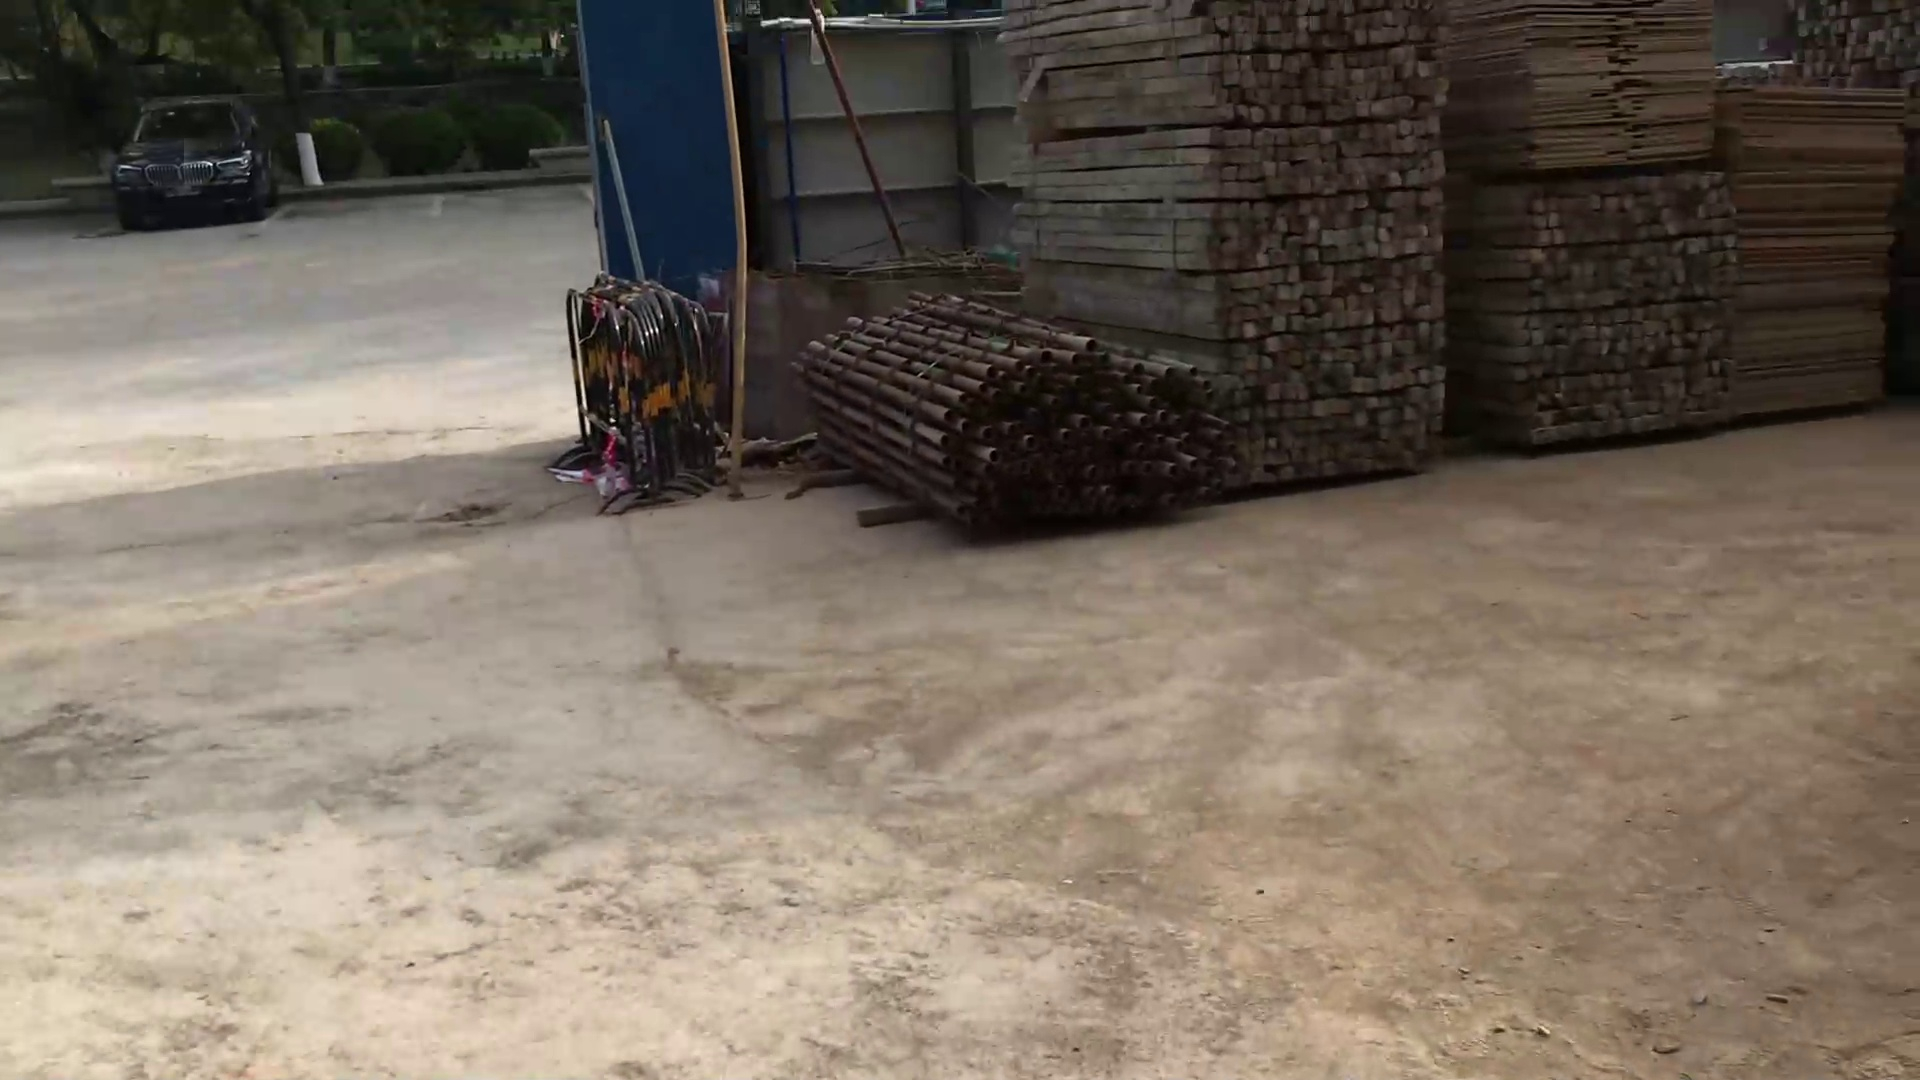board: (1720, 78, 1903, 429), (1447, 1, 1720, 167)
scaffold: (793, 291, 1221, 530)
wood: (1000, 3, 1449, 495), (1455, 171, 1739, 448), (1782, 1, 1920, 82)
